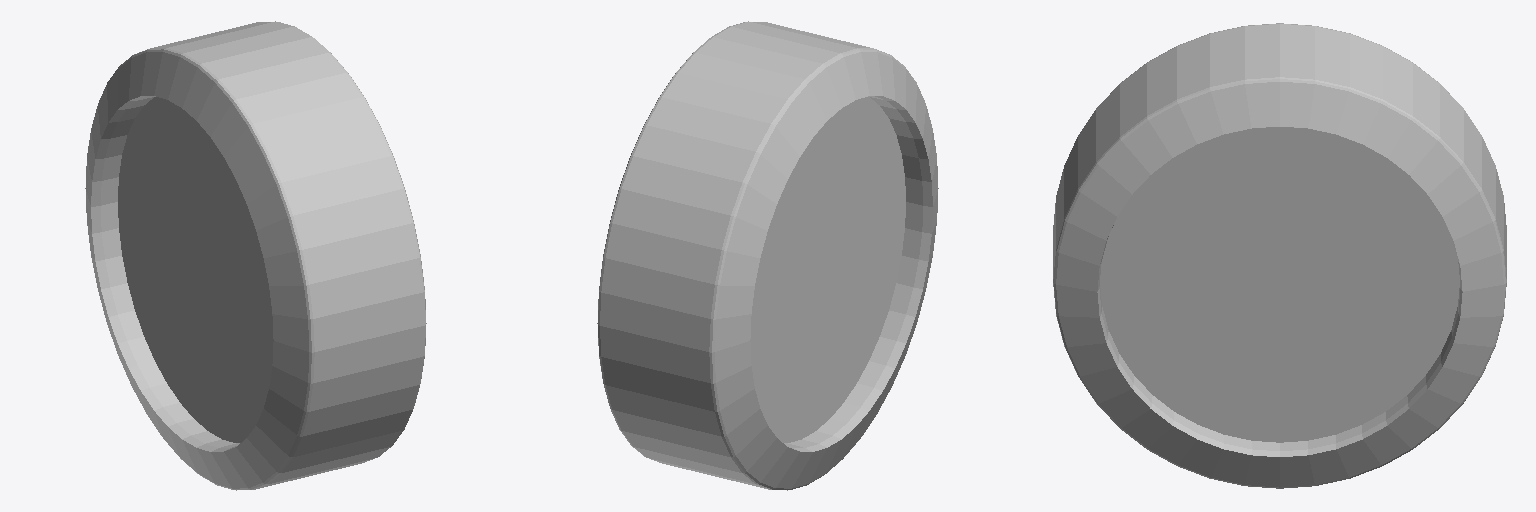
Rendered from SP_Door.obj.
3 renders of one model, left to right at view 1: azimuth 30°, elevation 25°; view 2: azimuth 150°, elevation 25°; view 3: azimuth 270°, elevation 25°, orthographic.
Visible parts, largest first — view 1: frame, right_door, left_door; view 2: frame, left_door, right_door; view 3: frame, left_door, right_door.
Boxes of the visible parts, x1,y1,x2,y2 form: frame: [85, 21, 426, 490]; right_door: [118, 97, 207, 430]; left_door: [208, 135, 273, 442]; frame: [597, 21, 938, 490]; left_door: [816, 97, 905, 430]; right_door: [750, 135, 815, 442]; frame: [1053, 23, 1506, 488]; left_door: [1100, 127, 1279, 442]; right_door: [1280, 127, 1459, 442].
Bounding box in the file's own units: 4.58 × 12.2 × 12.2.